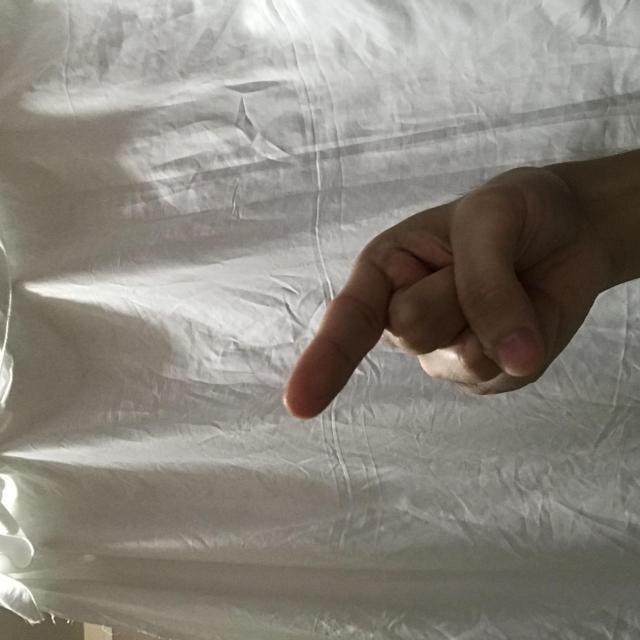Z: (218, 278, 474, 597)
